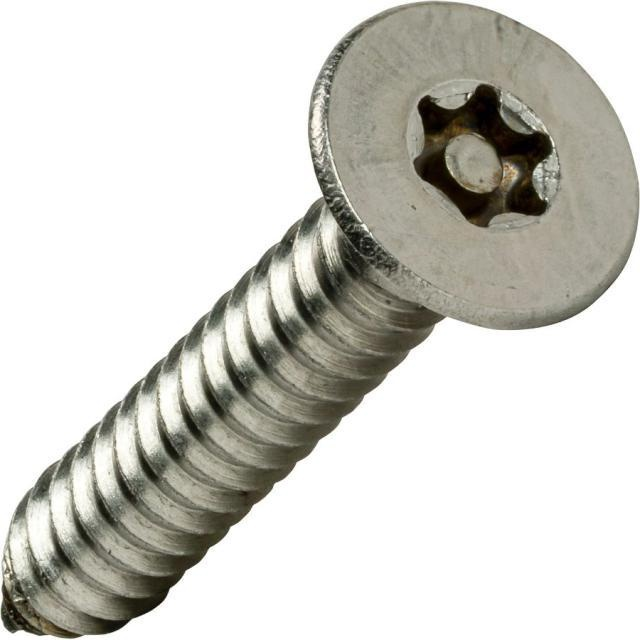torx: (307, 1, 637, 331)
